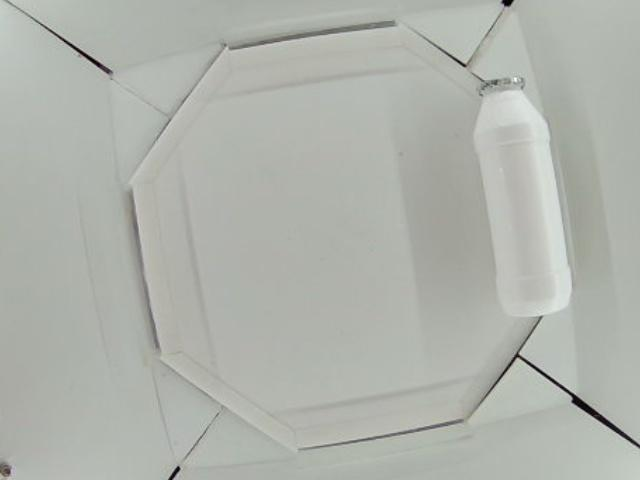Bottle: (476, 77, 576, 318)
